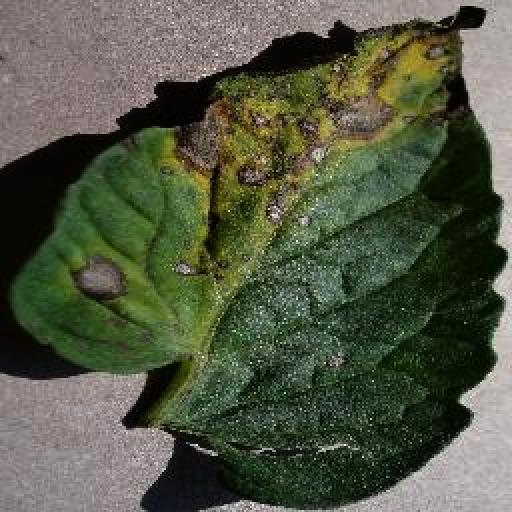disease_tomato: (14, 6, 508, 512)
